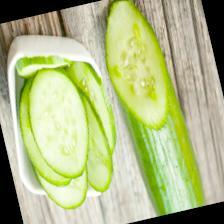cucumber: (91, 0, 207, 220)
